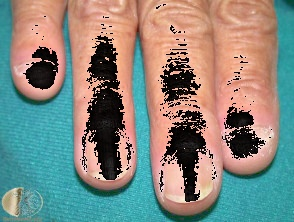Nail_psoriasis: (157, 133, 221, 208), (73, 111, 136, 185), (218, 117, 278, 161), (13, 53, 62, 88)
